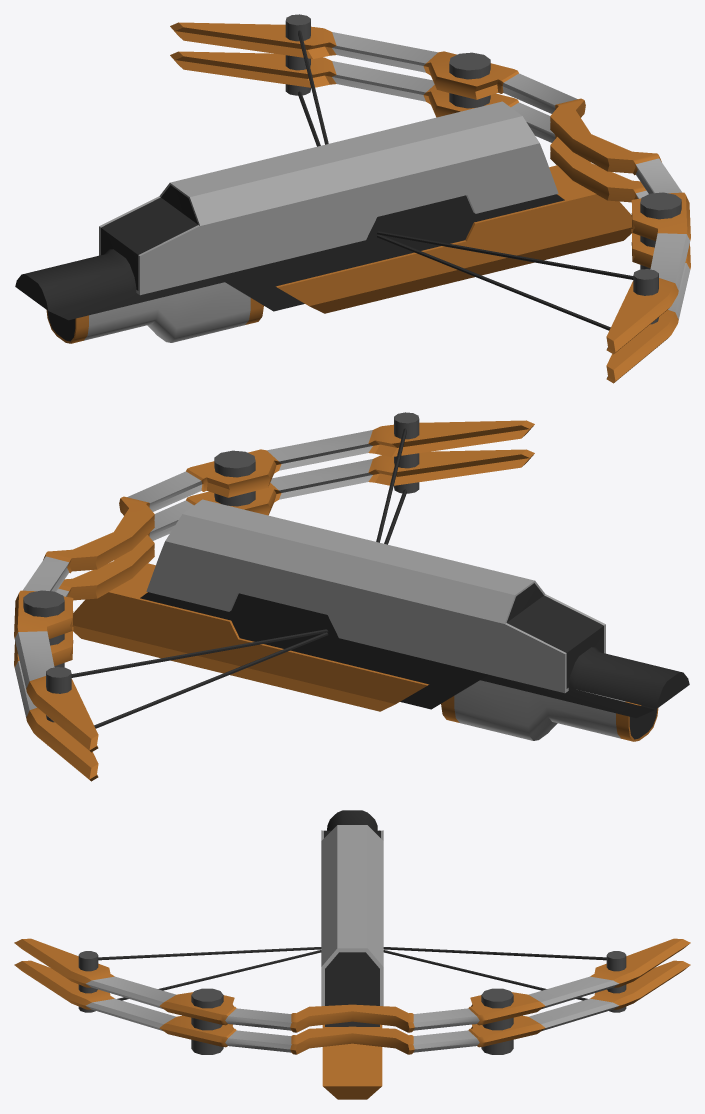
The model's file is Body_Crossbow_2.glb.
3 renders of one model, top to bottom at view 1: azimuth 30°, elevation 25°; view 2: azimuth 150°, elevation 25°; view 3: azimuth 270°, elevation 25°, orthographic. The views are drawn at different scales.
Visible parts, largest first — view 1: Body_Crossbow_2; view 2: Body_Crossbow_2; view 3: Body_Crossbow_2.
Part boxes in pixels (left/top/right/bottom): Body_Crossbow_2: left=15, top=14, right=690, bottom=383; Body_Crossbow_2: left=14, top=412, right=689, bottom=781; Body_Crossbow_2: left=14, top=810, right=690, bottom=1099.
Bounding box in the file's own units: 1.47 × 0.3561 × 1.92.
